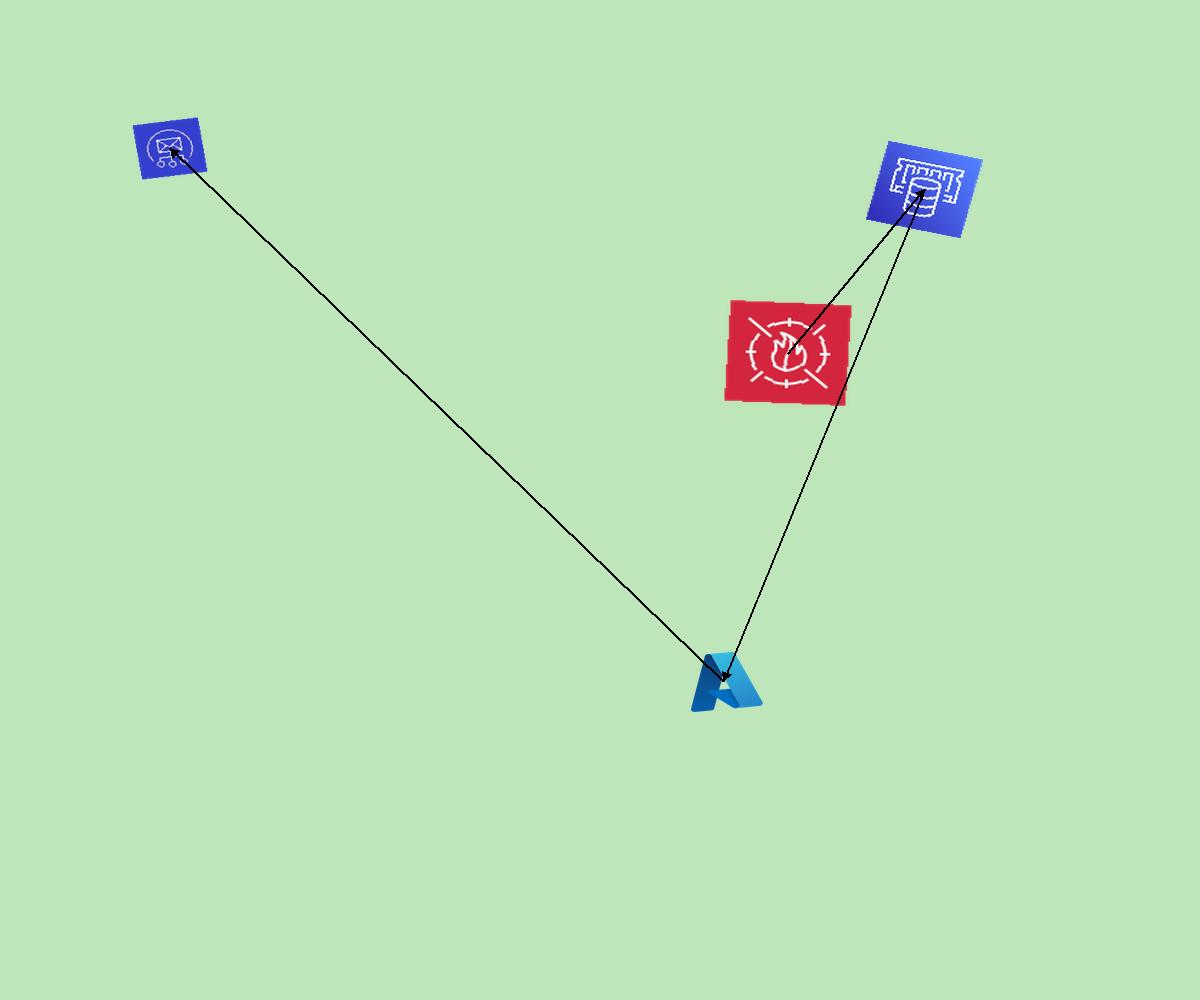AWS-ElastiCache: (865, 140, 984, 239)
AWS-Simple-Email-Service: (132, 117, 208, 180)
AWS-WAF: (723, 299, 853, 407)
Azure_services: (680, 645, 767, 717)
